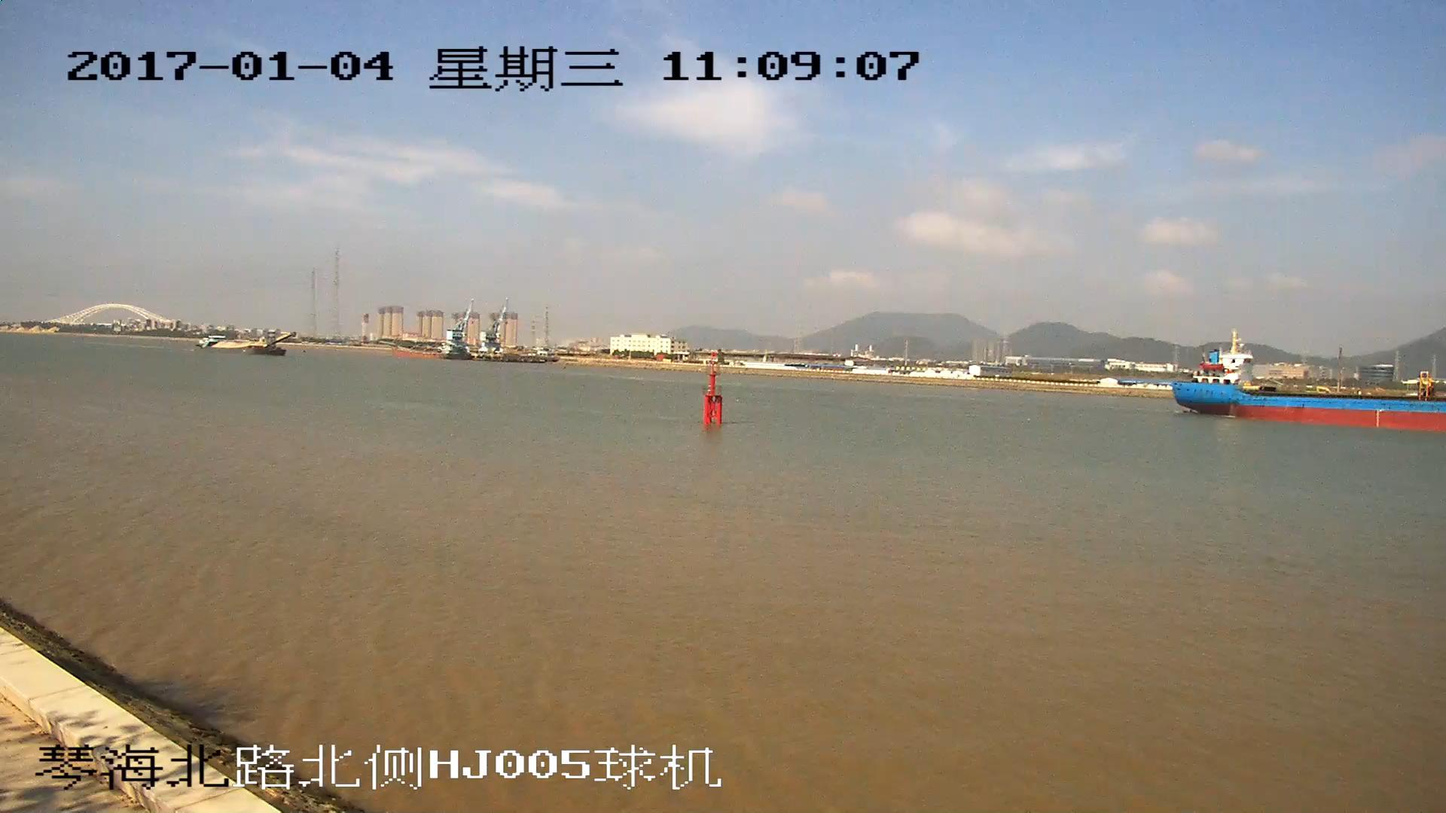general cargo ship: (1170, 330, 1445, 434)
